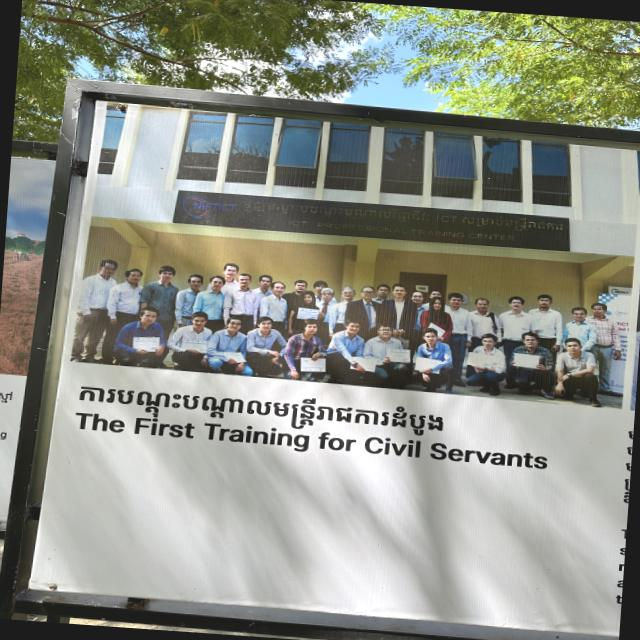Yolov11kh: (65, 374, 450, 441)
